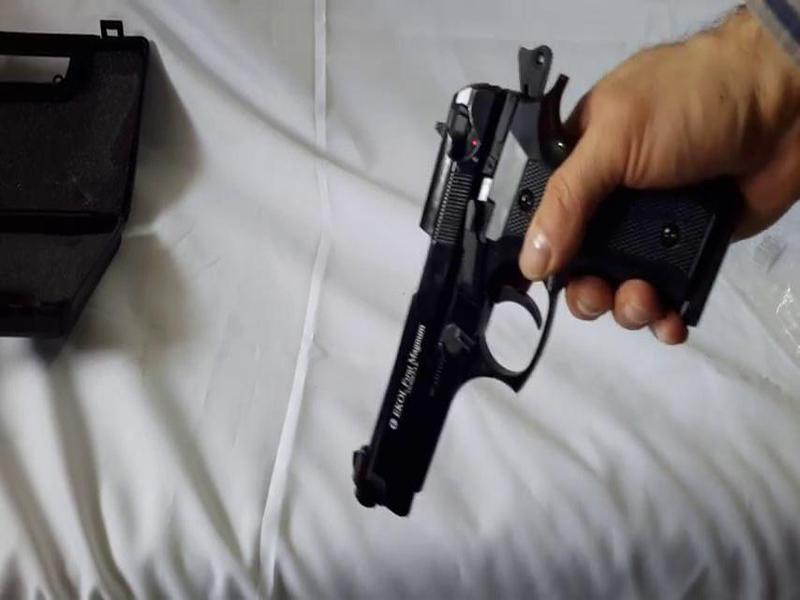Pistola: (302, 67, 759, 530)
